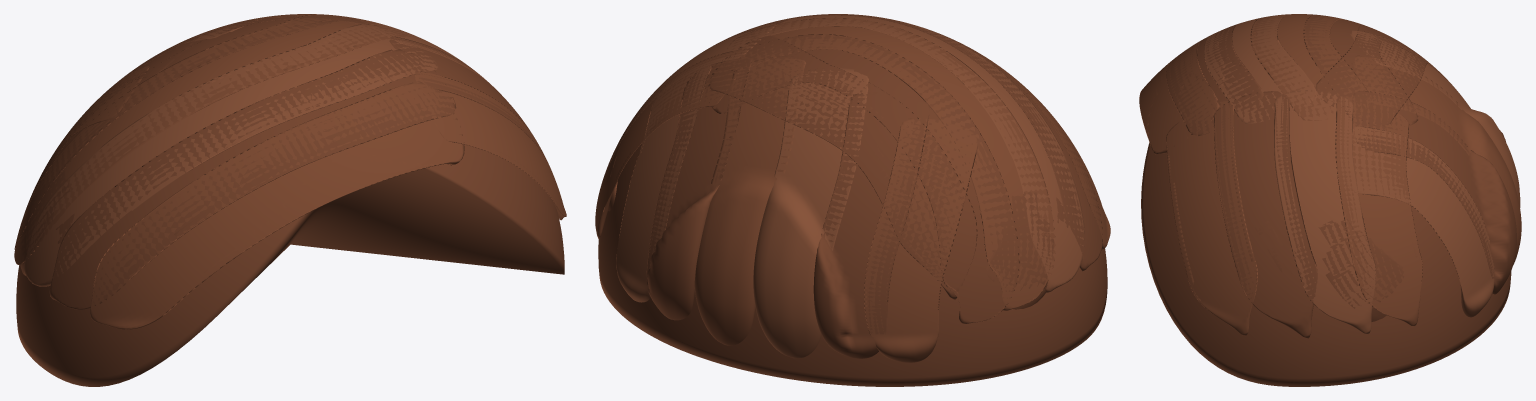
File: Masculine-sidepart-cap-hair.glb
The picture shows the model from 3 angles, left to right: view 1: azimuth 30°, elevation 25°; view 2: azimuth 150°, elevation 25°; view 3: azimuth 270°, elevation 25°; orthographic projection. The views are drawn at different scales.
Parts seen in each view (by area): view 1: Recessed roots, Hair / Side part main 0, Hair / Side part main 1, Hair / Side part main 2, Hair / Side part main 3, Hair / Side part short 0, Hair / Side part main 4, Hair / Side part short 1, Hair / Side part crown, Hair / Side part low -1 1, Hair / Side part nape 0, Hair / Side part nape 1 (+2 smaller); view 2: Recessed roots, Hair / Side part nape 2, Hair / Side part nape 3, Hair / Side part nape 1, Hair / Side part main 3, Hair / Side part nape 0, Hair / Side part crown, Hair / Side part main 4, Hair / Side part nape 4, Hair / Side part main 2, Hair / Side part nape 5, Hair / Side part main 1 (+5 smaller); view 3: Recessed roots, Hair / Side part short 1, Hair / Side part short 2, Hair / Side part short 0, Hair / Side part short 3, Hair / Side part nape 5, Hair / Side part nape 4, Hair / Side part nape 3, Hair / Side part main 2, Hair / Side part main 3, Hair / Side part main 0, Hair / Side part main 1 (+6 smaller).
Boxes of the visible parts, x1=… form: Recessed roots: x1=16, y1=144, x2=564, y2=386; Hair / Side part main 0: x1=90, y1=82, x2=464, y2=329; Hair / Side part main 1: x1=49, y1=49, x2=456, y2=309; Hair / Side part main 2: x1=24, y1=24, x2=438, y2=286; Hair / Side part main 3: x1=14, y1=14, x2=410, y2=264; Hair / Side part short 0: x1=415, y1=71, x2=566, y2=220; Hair / Side part main 4: x1=14, y1=14, x2=358, y2=249; Hair / Side part short 1: x1=389, y1=36, x2=547, y2=161; Hair / Side part crown: x1=34, y1=14, x2=375, y2=188; Hair / Side part low -1 1: x1=19, y1=170, x2=70, y2=275; Hair / Side part nape 0: x1=50, y1=66, x2=149, y2=158; Hair / Side part nape 1: x1=90, y1=36, x2=200, y2=106; Recessed roots: x1=598, y1=142, x2=1107, y2=386; Hair / Side part nape 2: x1=753, y1=67, x2=868, y2=358; Hair / Side part nape 3: x1=694, y1=56, x2=805, y2=345; Hair / Side part nape 1: x1=813, y1=92, x2=929, y2=358; Hair / Side part main 3: x1=725, y1=17, x2=1055, y2=310; Hair / Side part nape 0: x1=864, y1=118, x2=978, y2=362; Hair / Side part crown: x1=708, y1=36, x2=977, y2=299; Hair / Side part main 4: x1=705, y1=34, x2=1019, y2=323; Hair / Side part nape 4: x1=646, y1=57, x2=751, y2=320; Hair / Side part main 2: x1=751, y1=14, x2=1084, y2=292; Hair / Side part nape 5: x1=616, y1=65, x2=711, y2=302; Hair / Side part main 1: x1=780, y1=14, x2=1102, y2=271; Recessed roots: x1=1141, y1=142, x2=1511, y2=386; Hair / Side part short 1: x1=1213, y1=91, x2=1317, y2=338; Hair / Side part short 2: x1=1274, y1=90, x2=1375, y2=334; Hair / Side part short 0: x1=1166, y1=101, x2=1257, y2=336; Hair / Side part short 3: x1=1335, y1=96, x2=1422, y2=326; Hair / Side part nape 5: x1=1343, y1=126, x2=1494, y2=317; Hair / Side part nape 4: x1=1352, y1=90, x2=1516, y2=294; Hair / Side part nape 3: x1=1351, y1=55, x2=1521, y2=264; Hair / Side part main 2: x1=1204, y1=14, x2=1317, y2=123; Hair / Side part main 3: x1=1250, y1=14, x2=1371, y2=120; Hair / Side part main 0: x1=1139, y1=40, x2=1219, y2=154; Hair / Side part main 1: x1=1166, y1=24, x2=1263, y2=135.
Bounding box in the file's own units: 0.9546 × 0.5035 × 0.7222.
